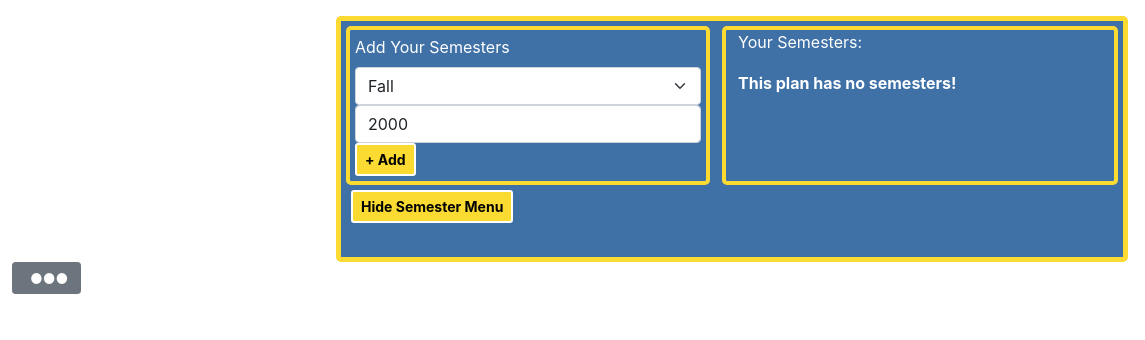
Test case: SemesterCreator tests › There is an Select Button
Step 1. Click the button "●●●" → (47, 278), box [12,262,81,294]
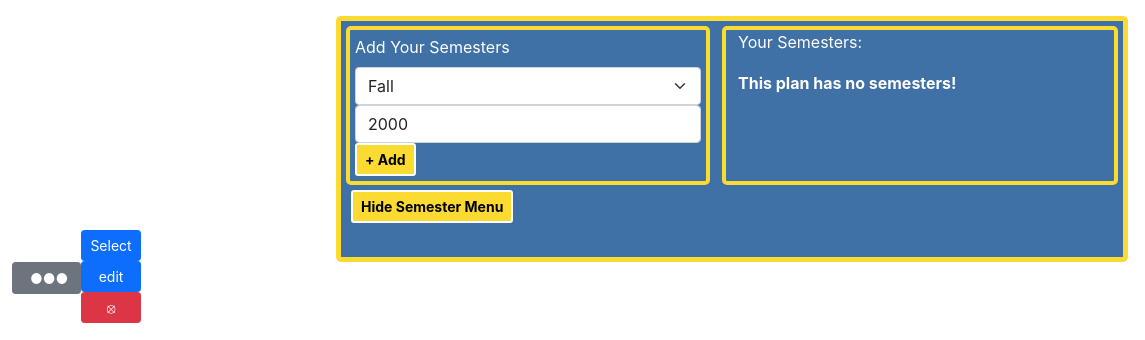
Expected: the button "Select" is shown, [81,230,141,261]
